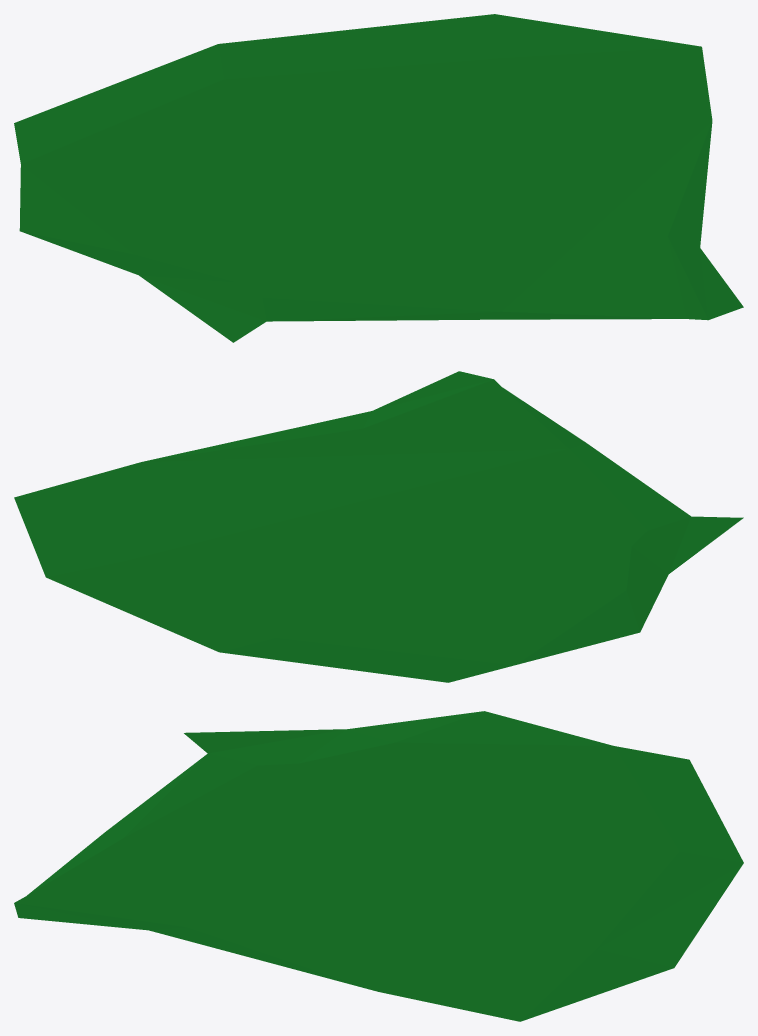
The picture shows the model from 3 angles, top to bottom: view 1: azimuth 30°, elevation 25°; view 2: azimuth 150°, elevation 25°; view 3: azimuth 270°, elevation 25°; orthographic projection. The views are drawn at different scales.
Visible parts, largest first — view 1: Mapa Base.003; view 2: Mapa Base.003; view 3: Mapa Base.003.
Part boxes in pixels (left/top/right/bottom): Mapa Base.003: left=14, top=14, right=743, bottom=342; Mapa Base.003: left=14, top=371, right=743, bottom=682; Mapa Base.003: left=14, top=711, right=743, bottom=1021.
Size of the model in its own units: 26445 by 26339 by 146.
